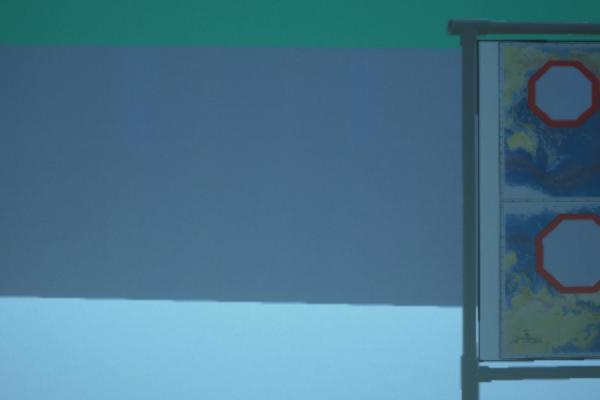torpille: (460, 19, 600, 382)
torpille_target: (536, 212, 600, 293), (526, 60, 598, 128)
